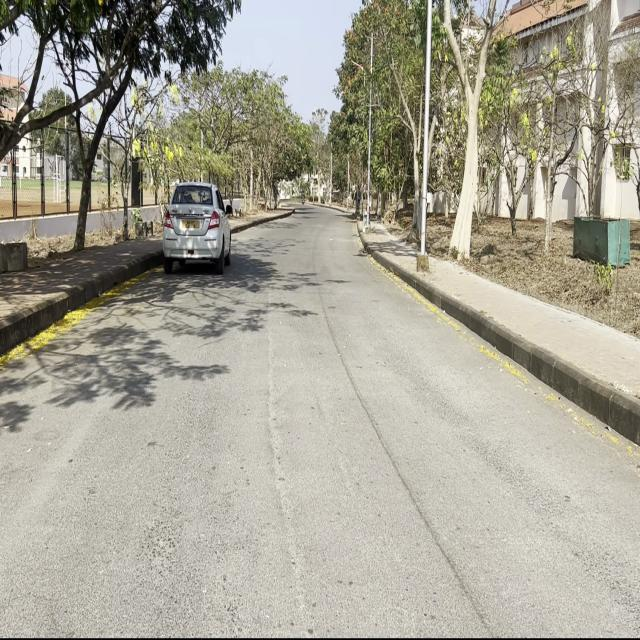Object: (160, 180, 229, 282)
Road: (5, 211, 631, 627)
